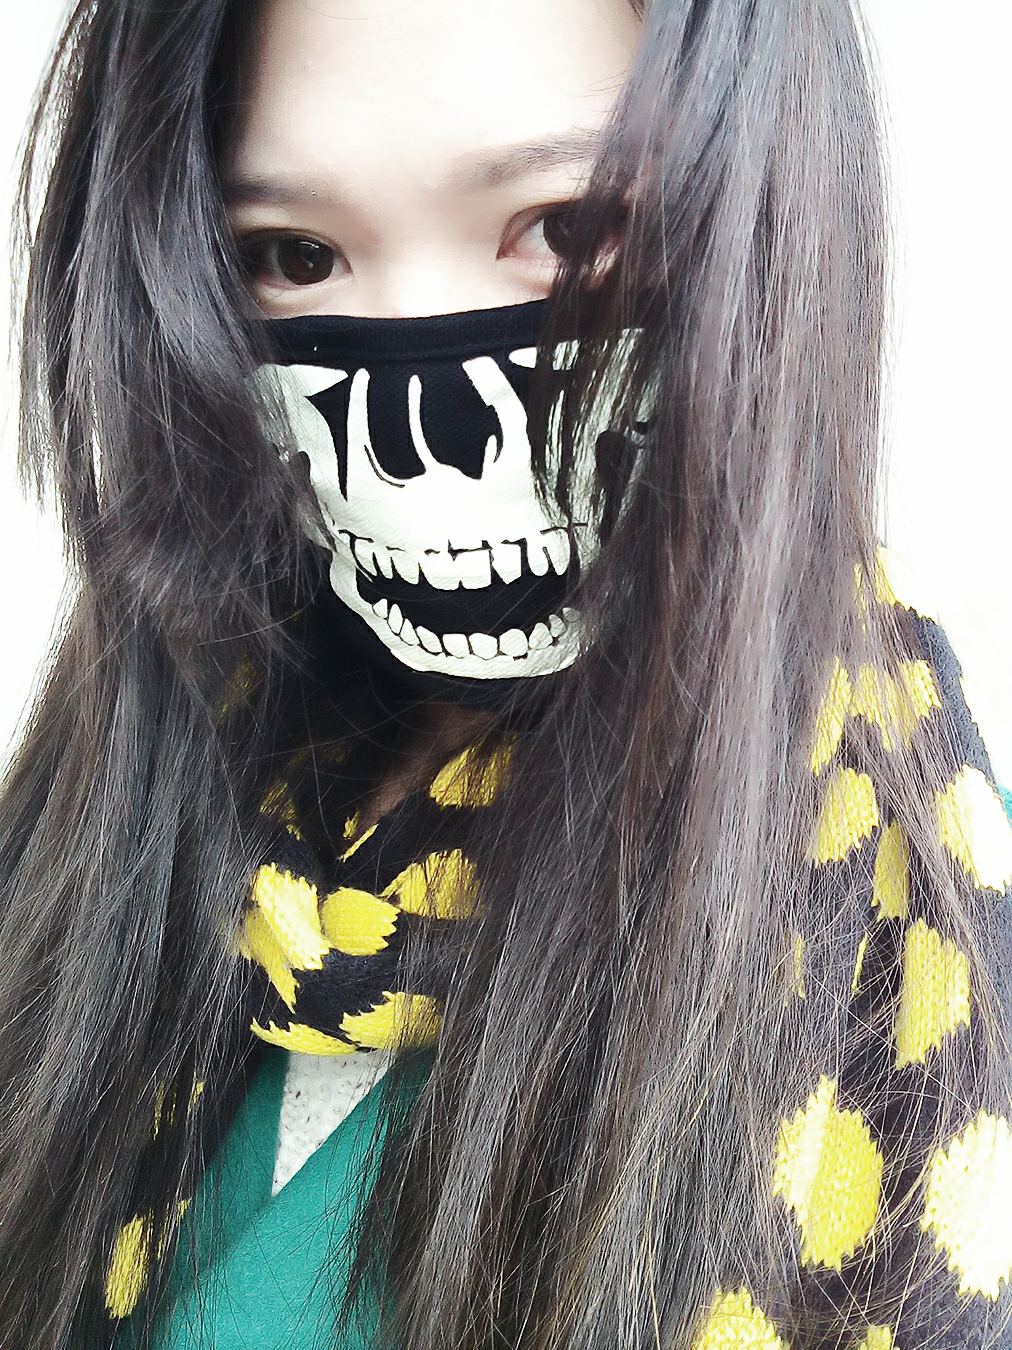face_mask: (226, 0, 652, 704)
